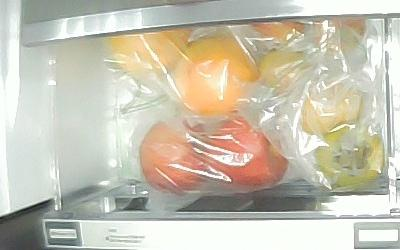apple_vinyl: (206, 118, 288, 189), (139, 119, 210, 194)
grapefruit_vinyl: (174, 36, 259, 116), (105, 27, 191, 82)
persimmon_vinyl: (314, 121, 384, 189), (301, 79, 362, 135)
prune_vinyl: (260, 48, 312, 89), (312, 19, 368, 55)
